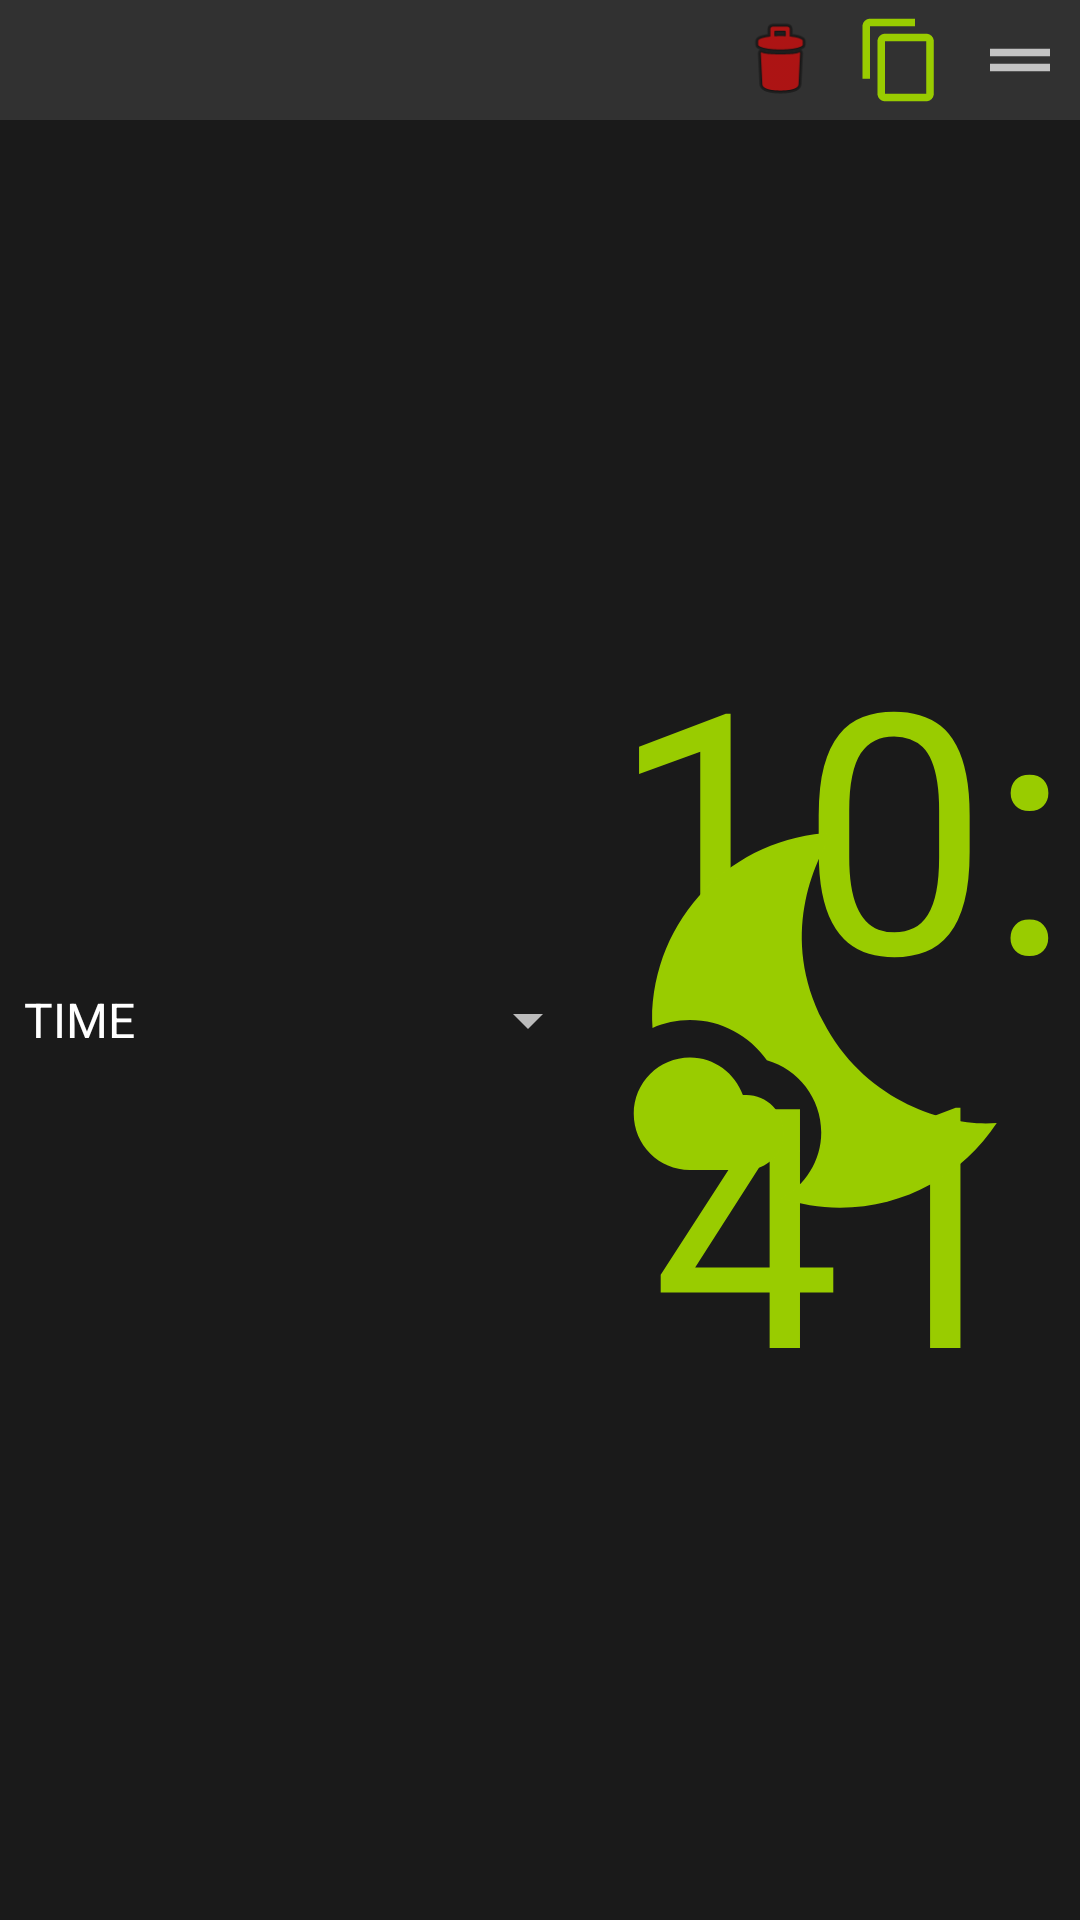

Icons on this 1080px x 1920px Android screen, each with its box as (x1, y1, x2, y2):
delete: (757, 26, 804, 92)
drag handle: (990, 48, 1050, 72)
